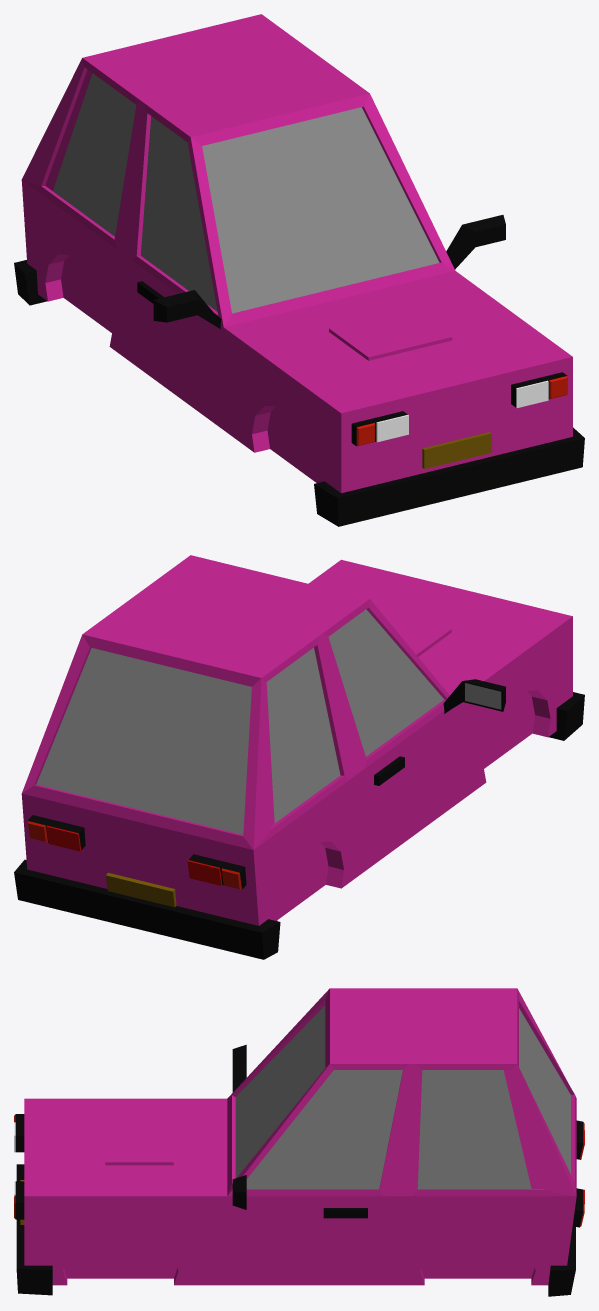
Rendered from Car.obj.
3 views of the same model, one above another, from view 1: azimuth 30°, elevation 25°; view 2: azimuth 150°, elevation 25°; view 3: azimuth 270°, elevation 25° (orthographic). The views are drawn at different scales.
Parts seen in each view (by area): view 1: Car_Body; view 2: Car_Body; view 3: Car_Body.
Part boxes in pixels (bbox=[...]): Car_Body: bbox=[14, 14, 584, 526]; Car_Body: bbox=[14, 555, 584, 959]; Car_Body: bbox=[14, 988, 584, 1296].
Size of the model in its own units: 6.04 by 4.16 by 9.87.
